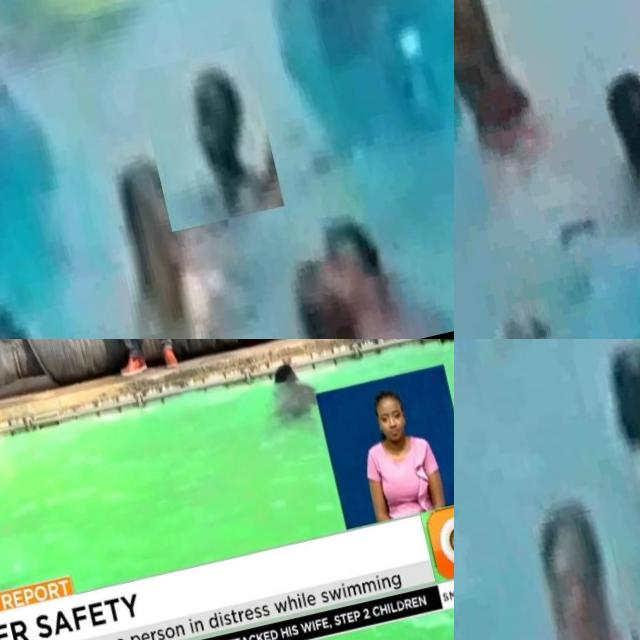drowning: (521, 8, 640, 260), (135, 44, 286, 232), (575, 339, 640, 539)
swimming: (80, 145, 243, 339), (262, 189, 454, 339), (245, 0, 454, 113), (528, 509, 640, 640), (257, 350, 325, 430), (0, 298, 95, 339)
